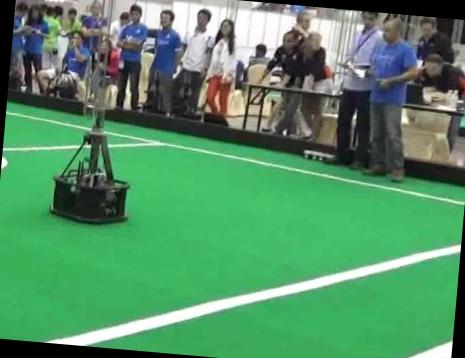person: (363, 18, 416, 181), (335, 11, 382, 168)
robot: (49, 107, 129, 222)
